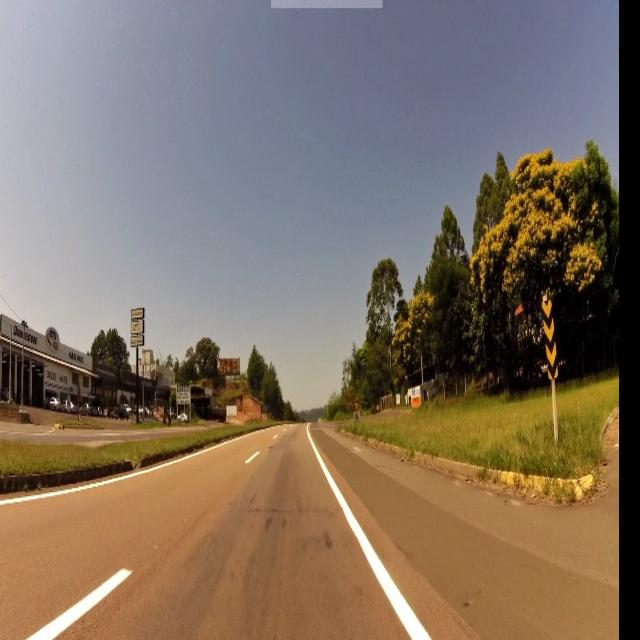MP: (542, 298, 558, 382)
